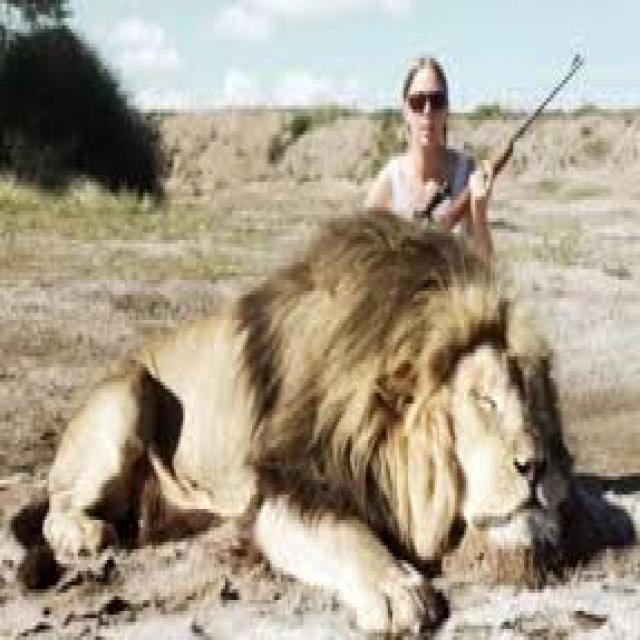Lion: (46, 214, 572, 631)
